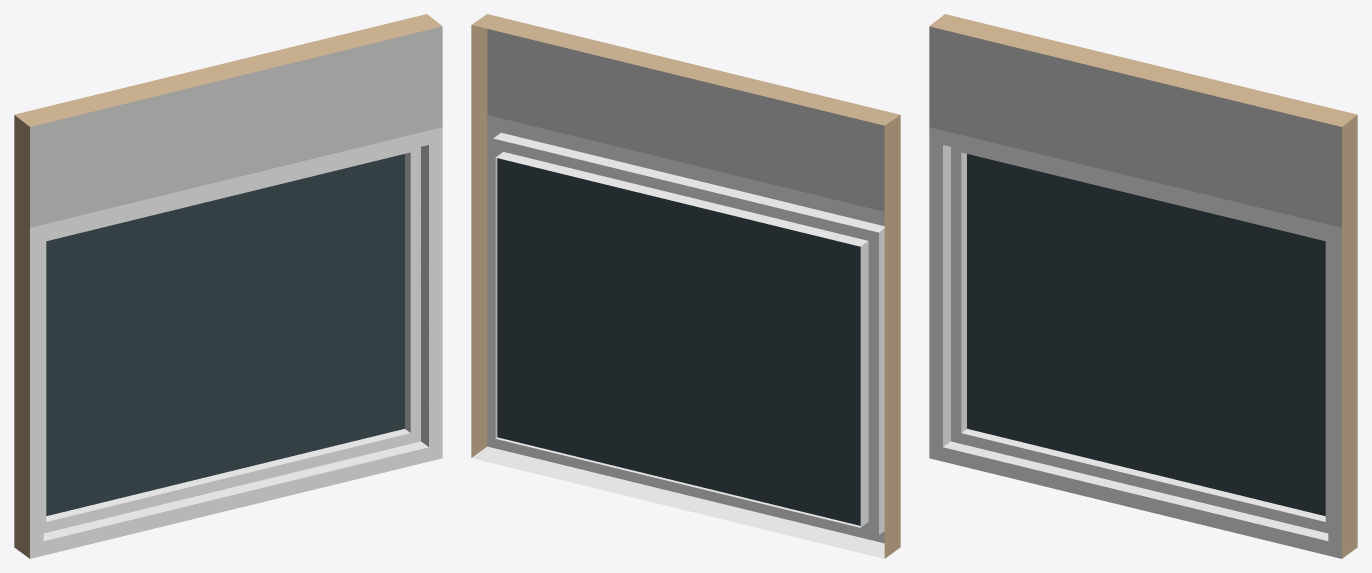
The model's file is buildings_house-wall-window-portal-3x3m.fbx.
The picture shows the model from 3 angles, left to right: view 1: azimuth 30°, elevation 25°; view 2: azimuth 150°, elevation 25°; view 3: azimuth 330°, elevation 25°; orthographic projection.
Parts seen in each view (by area): view 1: buildings_house_wall_window_portal_3x3m; view 2: buildings_house_wall_window_portal_3x3m; view 3: buildings_house_wall_window_portal_3x3m.
Part boxes in pixels (x1,y1,x2,y2): buildings_house_wall_window_portal_3x3m: (14,14,442,558); buildings_house_wall_window_portal_3x3m: (471,14,900,558); buildings_house_wall_window_portal_3x3m: (929,14,1357,558).
Size of the model in its own units: 200 by 200 by 13.31.
